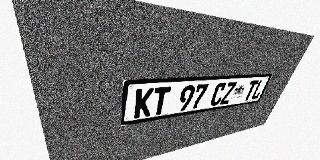7: (190, 84, 209, 110)
9: (177, 85, 196, 112)
C: (209, 82, 227, 106)
K: (134, 88, 154, 119)
L: (250, 80, 267, 100)
T: (151, 86, 171, 116), (242, 80, 259, 101)
Z: (219, 82, 237, 105)
